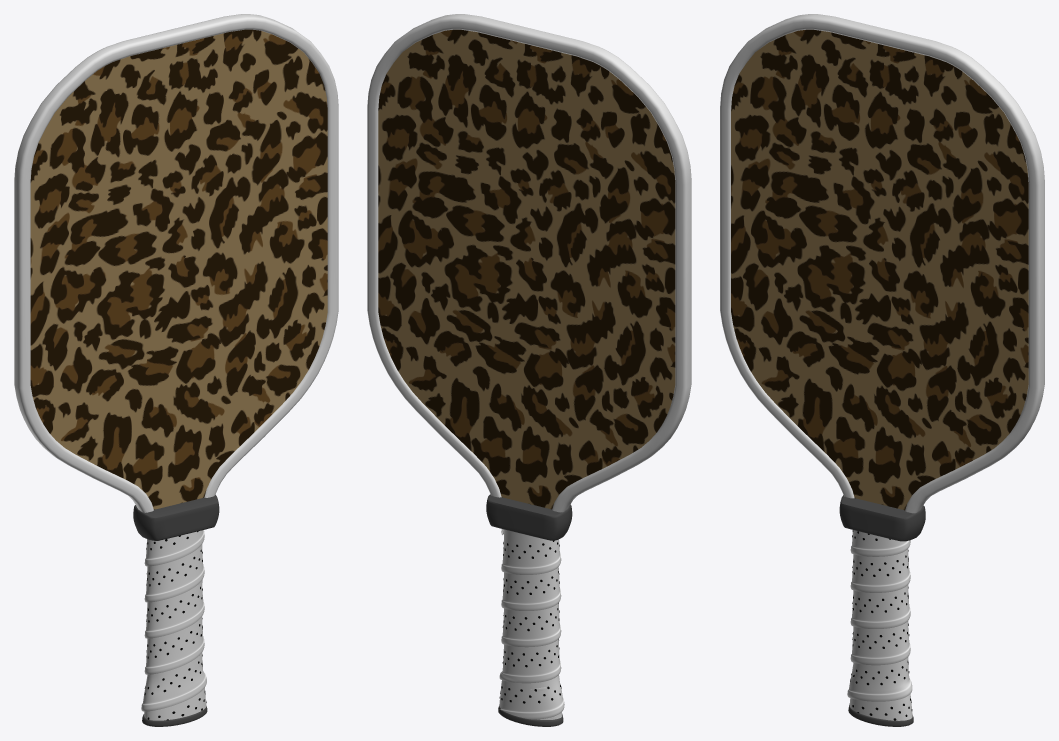
File: Frame.fbx
The picture shows the model from 3 angles, left to right: view 1: azimuth 30°, elevation 25°; view 2: azimuth 150°, elevation 25°; view 3: azimuth 330°, elevation 25°; orthographic projection.
Visible parts, largest first — view 1: Frame_Baked; view 2: Frame_Baked; view 3: Frame_Baked.
Part boxes in pixels (x1=…): Frame_Baked: x1=14, y1=14, x2=338, y2=726; Frame_Baked: x1=367, y1=14, x2=691, y2=726; Frame_Baked: x1=720, y1=14, x2=1044, y2=726.
Bounding box in the file's own units: 23.99 × 49.19 × 2.61.
Materials: 1 (1 with a texture image).
